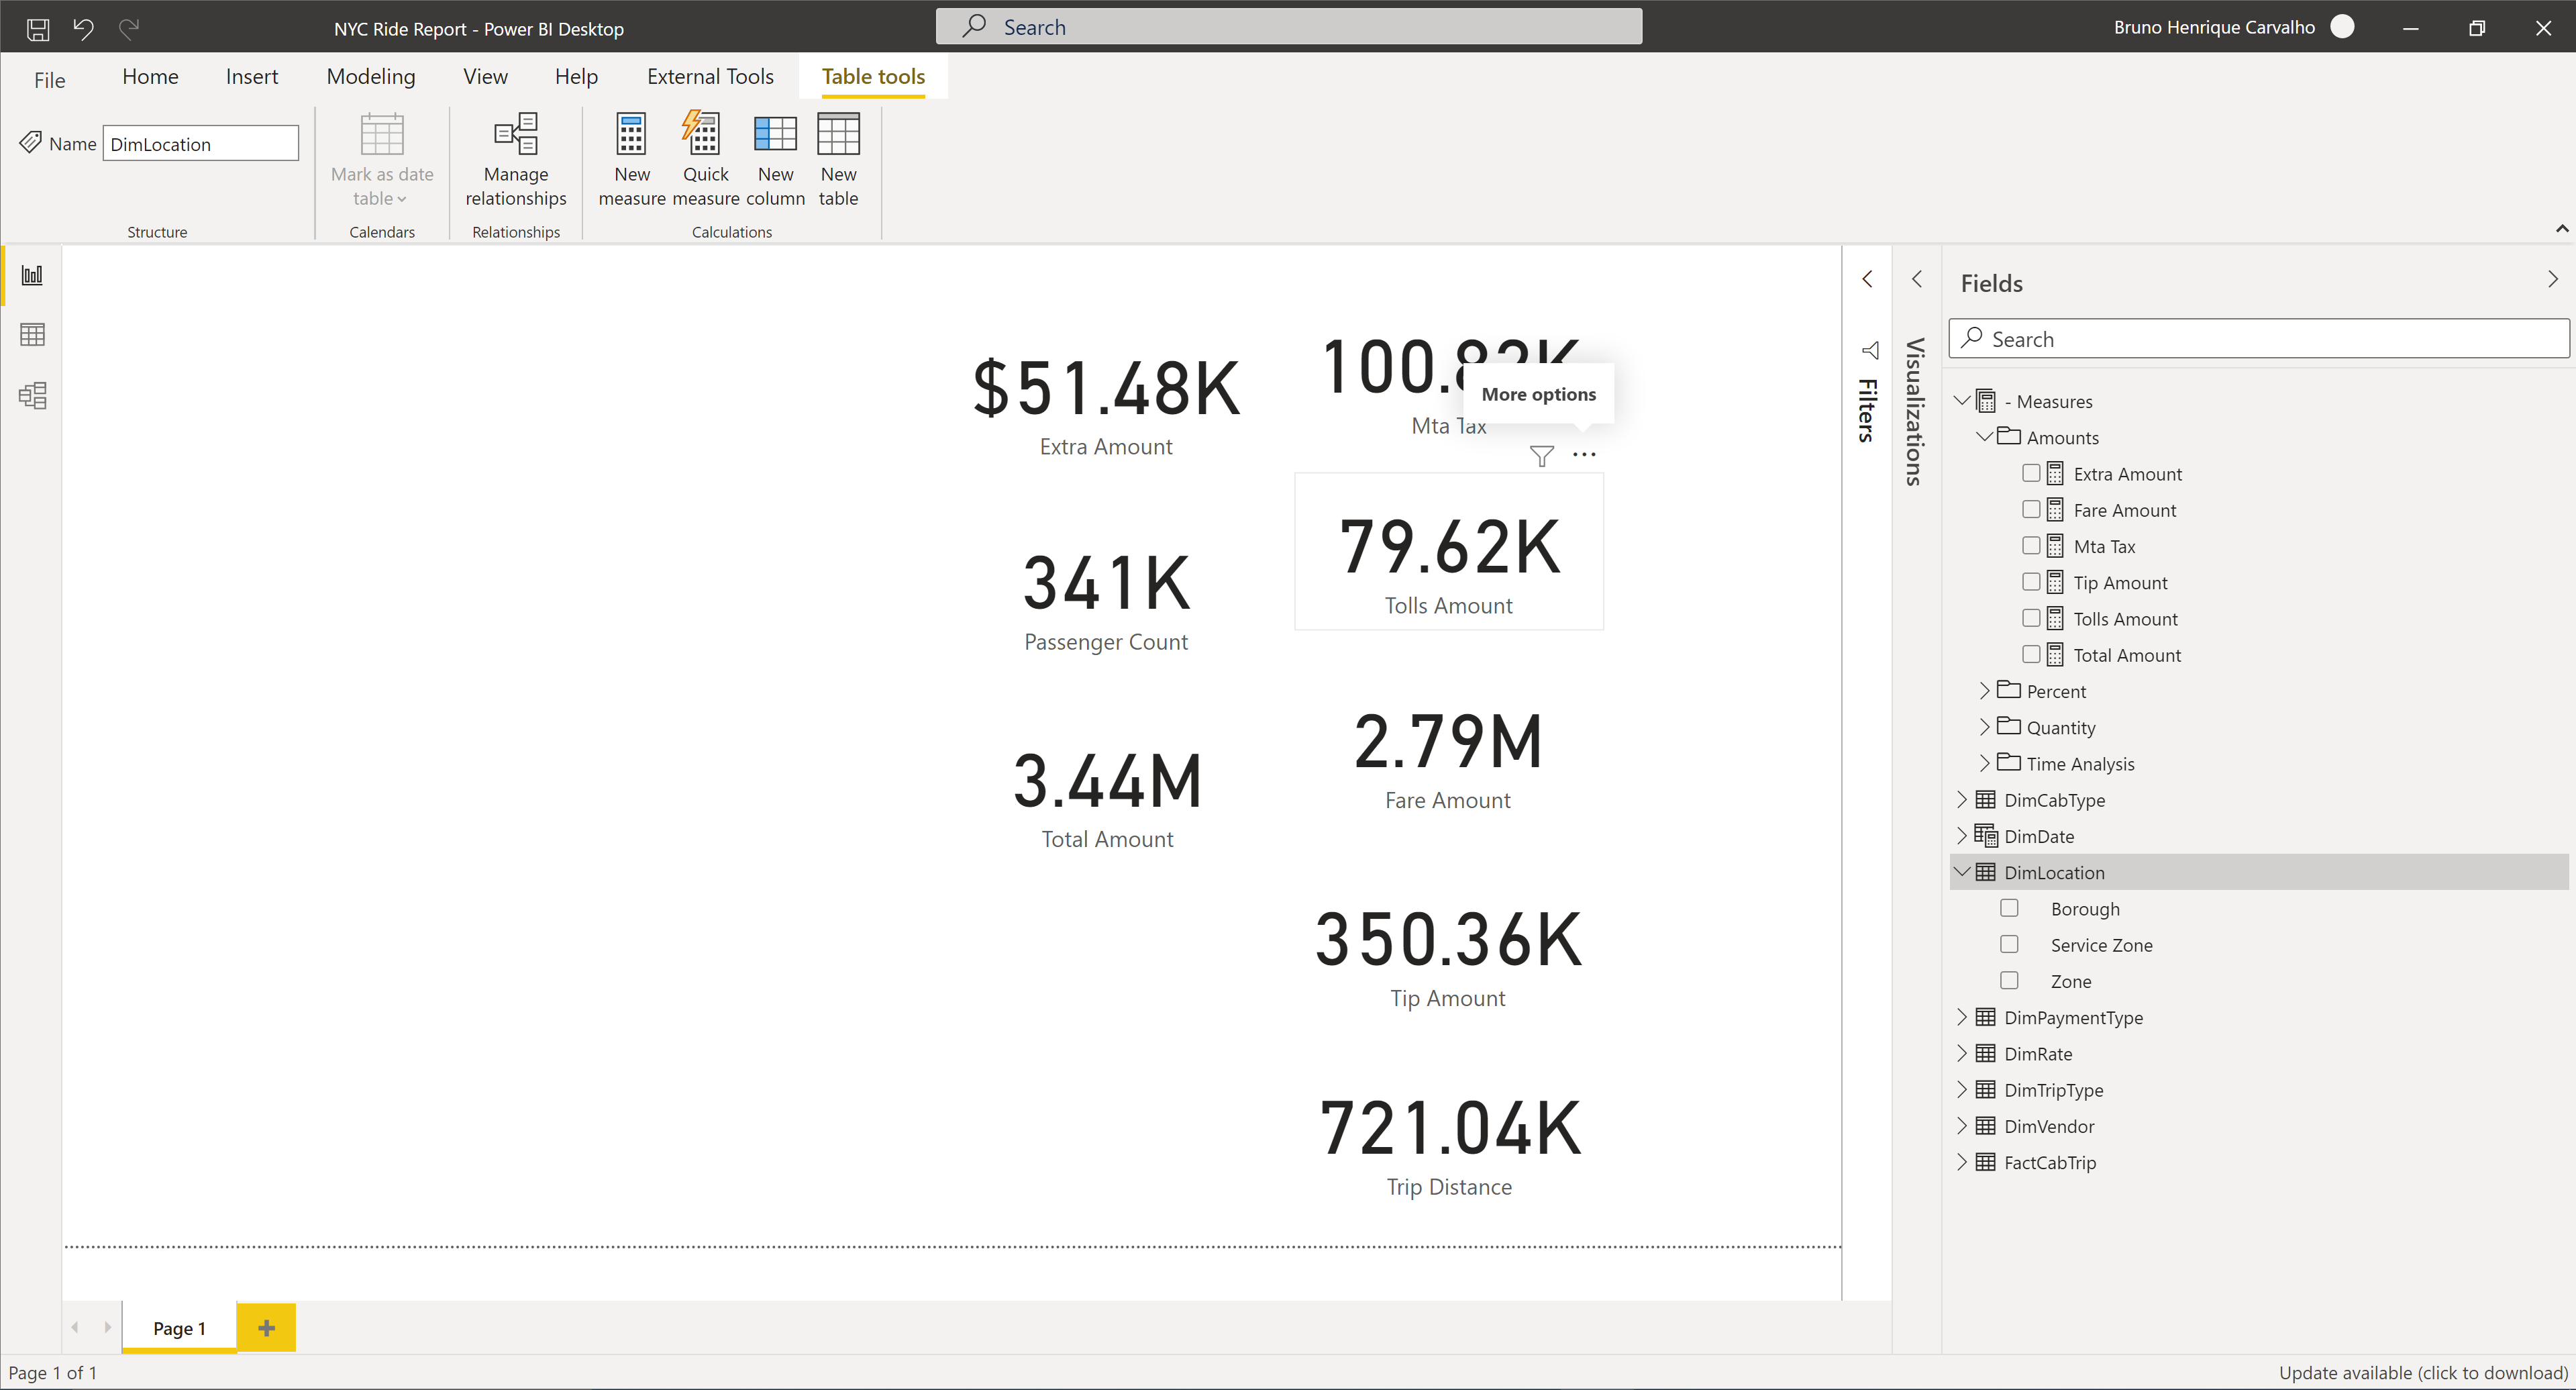

Layout of this report page (visuals, bound fields, positions):
{"tool":"powerbi","page":{"name":"Page 1","canvas":[1280,720],"ordinal":0},"visuals":[{"type":"card","fields":{"Values":["- Measures.Extra Amount"]},"box":[37.1,90.5,222.5,114.2],"z":1000},{"type":"card","fields":{"Values":["- Measures.Fare Amount"]},"box":[274.4,90.5,222.5,114.2],"z":2000},{"type":"card","fields":{"Values":["- Measures.Mta Tax"]},"box":[513.2,90.5,222.5,114.2],"z":3000},{"type":"card","fields":{"Values":["- Measures.Passenger Count"]},"box":[37.1,219.5,222.5,114.2],"z":4000},{"type":"card","fields":{"Values":["- Measures.Tip Amount"]},"box":[274.4,219.5,222.5,114.2],"z":5000},{"type":"card","fields":{"Values":["- Measures.Tolls Amount"]},"box":[513.2,221,222.5,114.2],"z":6000},{"type":"card","fields":{"Values":["- Measures.Total Amount"]},"box":[37.1,360.4,222.5,114.2],"z":7000},{"type":"card","fields":{"Values":["- Measures.Trip Distance"]},"box":[274.4,360.4,222.5,114.2],"z":8000}]}

Visuals, with their boxes on the page's 1280x720 design canvas (x1, y1, x2, y2). These are canvas units, not pixel positions in the 2576x1390 screenshot, which may show the page scaled, cropped or inside an application window:
card - - Measures.Extra Amount: (37, 90, 260, 205)
card - - Measures.Fare Amount: (274, 90, 497, 205)
card - - Measures.Mta Tax: (513, 90, 736, 205)
card - - Measures.Passenger Count: (37, 220, 260, 334)
card - - Measures.Tip Amount: (274, 220, 497, 334)
card - - Measures.Tolls Amount: (513, 221, 736, 335)
card - - Measures.Total Amount: (37, 360, 260, 475)
card - - Measures.Trip Distance: (274, 360, 497, 475)
